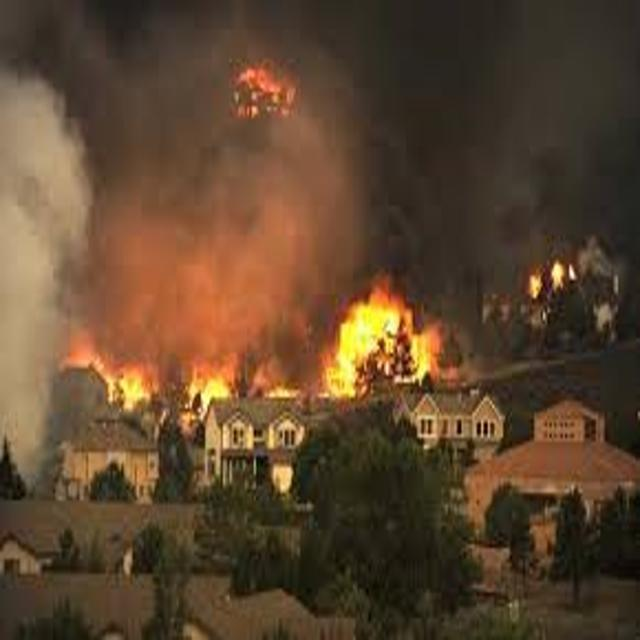Fire: (60, 326, 312, 408), (312, 266, 454, 400), (216, 53, 303, 124), (514, 251, 600, 308)
Smoke: (308, 0, 524, 262), (61, 128, 310, 322), (523, 0, 637, 249), (0, 75, 58, 492), (66, 5, 214, 120)
